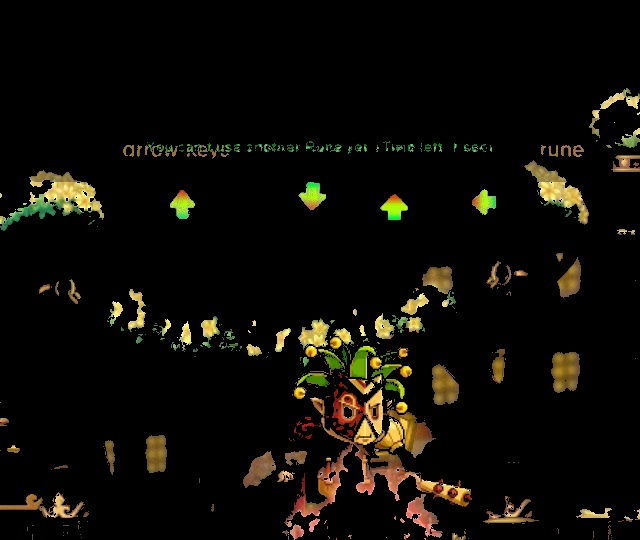down: (290, 176, 338, 218)
left: (464, 184, 505, 227)
up: (371, 185, 417, 231), (163, 185, 202, 226)
